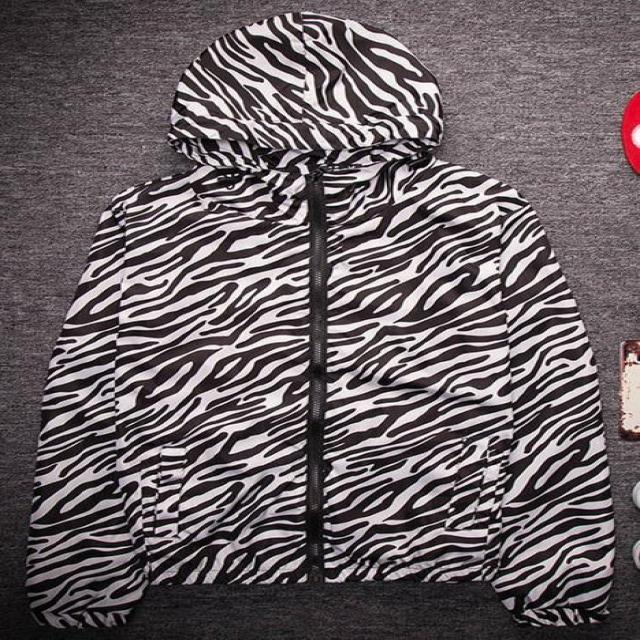long sleeve top: (25, 12, 617, 629)
